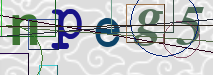5: (176, 6, 204, 44)
e: (95, 17, 120, 48)
g: (133, 8, 163, 46)
n: (12, 13, 37, 45)
p: (50, 8, 82, 48)
